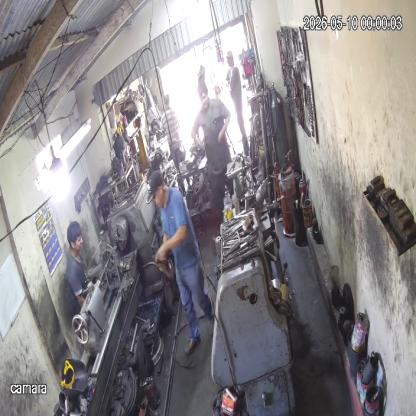sin_lentes: (72, 235, 84, 245)
